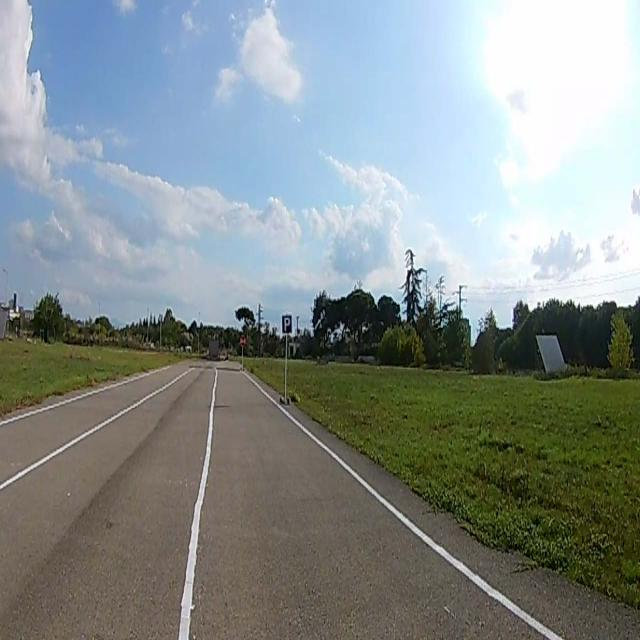park: (282, 316, 292, 335)
